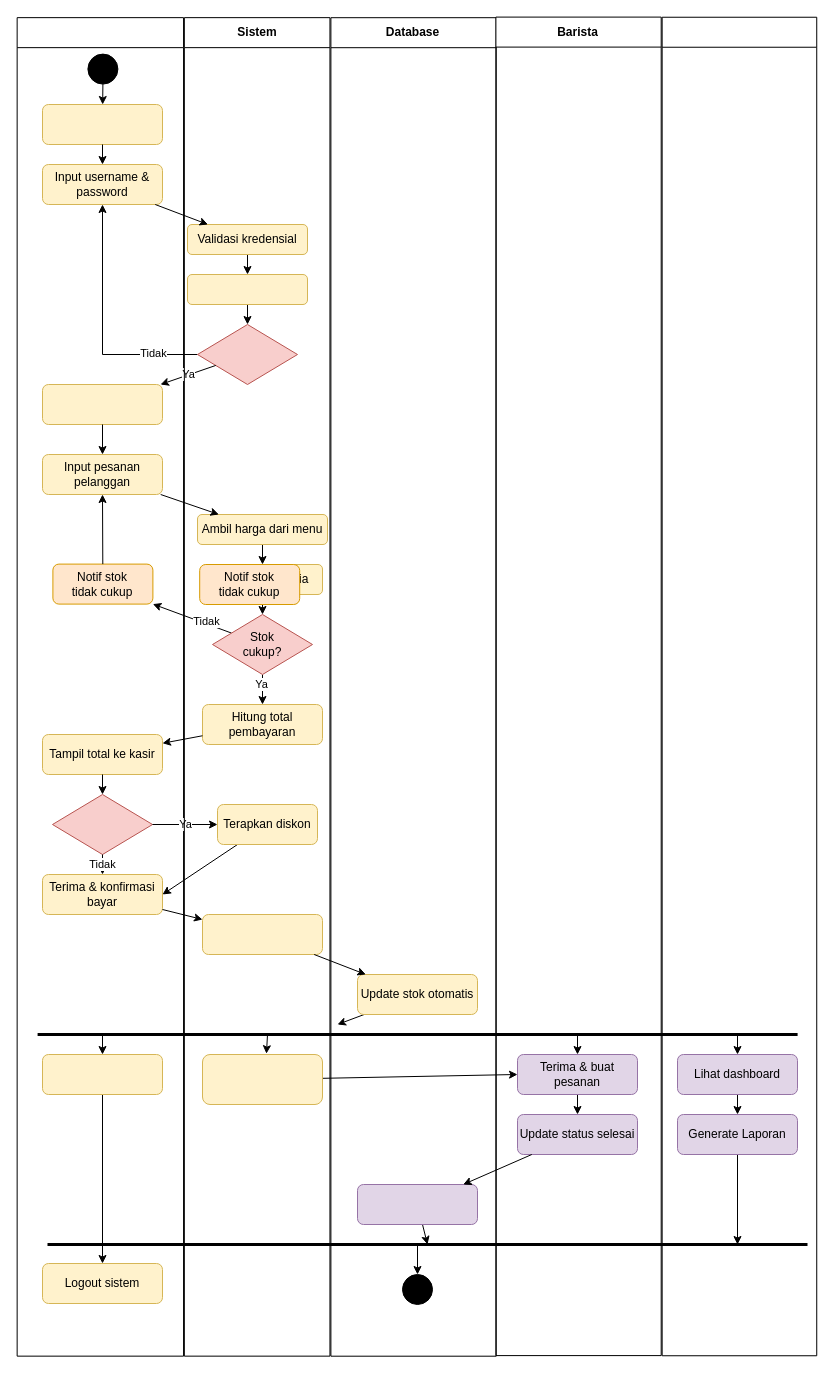
Some shapes in this 835 by 1375 pixel diagram are drawn without their labels. The box of each missing label's shape, as (x1, y1, x2, y2) in pixels:
Ada diskon?: (52, 794, 152, 854)
Akses dashboard (role): (42, 384, 162, 424)
Buka aplikasi sistem: (42, 104, 162, 144)
Cek data user: (186, 274, 308, 304)
Cetak struk pembayaran: (42, 1054, 162, 1094)
Kasir / Admin / Barista / Pemilik Cafe: (16, 17, 184, 1356)
Kirim detail order ke barista: (202, 1054, 322, 1104)
Pemilik: (661, 16, 817, 1356)
Simpan data transaksi: (202, 914, 322, 954)
Simpan status order: (356, 1184, 478, 1224)
Valid?: (196, 324, 298, 384)
